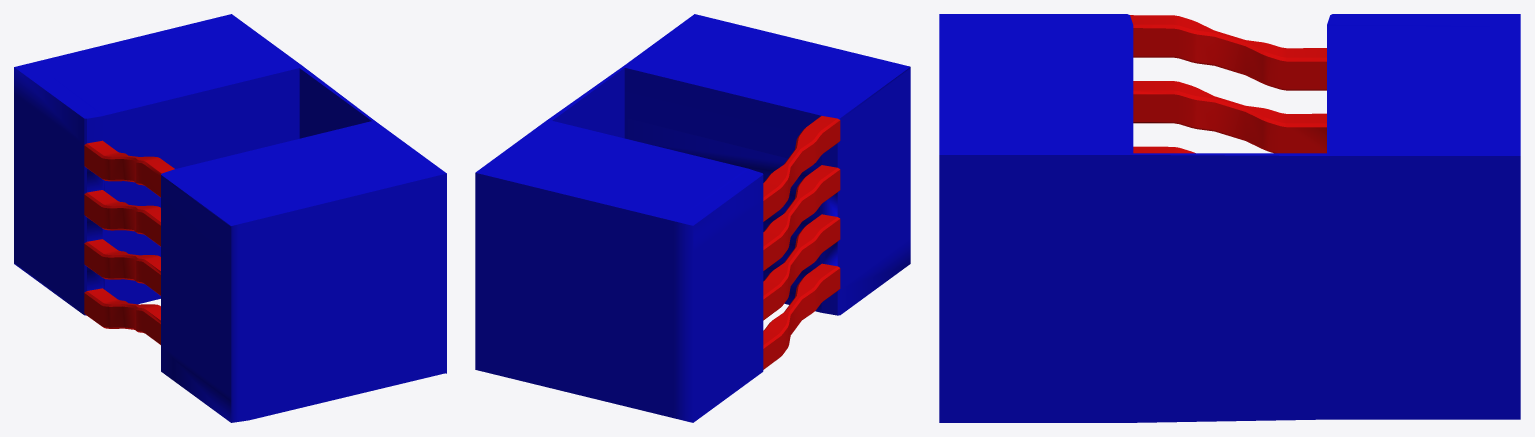
The model's file is MeGrilleMur_V2.FBX.
3 renders of one model, left to right at view 1: azimuth 30°, elevation 25°; view 2: azimuth 150°, elevation 25°; view 3: azimuth 270°, elevation 25°, orthographic. The views are drawn at different scales.
Parts seen in each view (by area): view 1: GrilleMur; view 2: GrilleMur; view 3: GrilleMur.
Boxes of the visible parts, box(x1,y1,x2,y2) form: GrilleMur: box(14, 14, 446, 422); GrilleMur: box(475, 14, 910, 422); GrilleMur: box(939, 14, 1520, 422).
Size of the model in its own units: 174 by 300 by 153.
